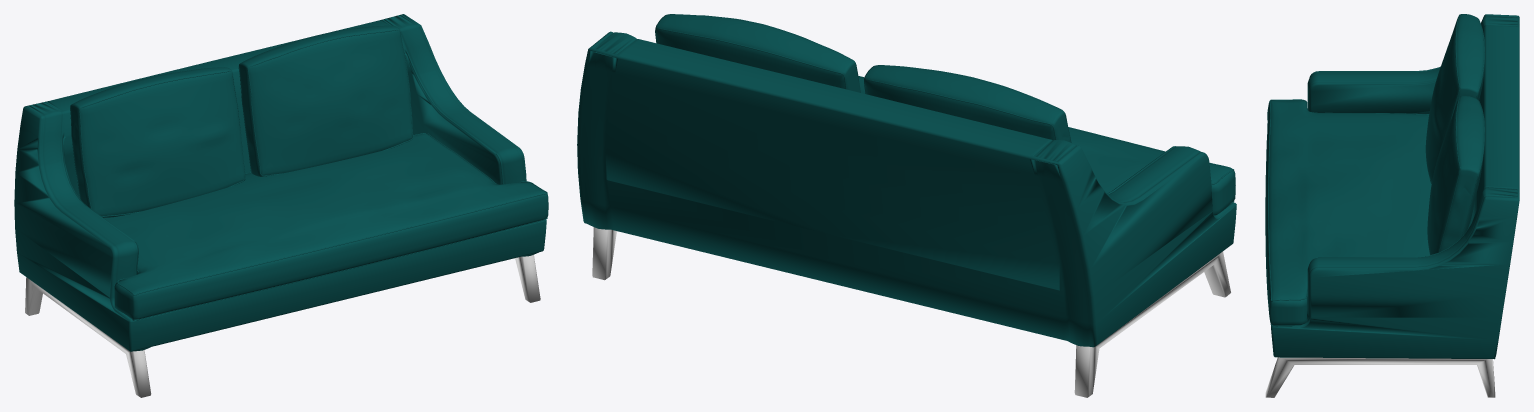
The model's file is sofa.glb.
3 views of the same model, side by side, from view 1: azimuth 30°, elevation 25°; view 2: azimuth 150°, elevation 25°; view 3: azimuth 270°, elevation 25° (orthographic). The views are drawn at different scales.
Visible parts, largest first — view 1: buffer-0-mesh-0_2_2, buffer-0-mesh-0_1_1, buffer-0-mesh-0_0; view 2: buffer-0-mesh-0_1_1, buffer-0-mesh-0_2_2, buffer-0-mesh-0_0; view 3: buffer-0-mesh-0_1_1, buffer-0-mesh-0_2_2, buffer-0-mesh-0_0.
Part boxes in pixels (box(x1,y1,x2,y2)): buffer-0-mesh-0_2_2: box(70, 25, 548, 319); buffer-0-mesh-0_1_1: box(14, 14, 547, 351); buffer-0-mesh-0_0: box(25, 254, 540, 397); buffer-0-mesh-0_1_1: box(577, 14, 1236, 347); buffer-0-mesh-0_2_2: box(655, 14, 1235, 215); buffer-0-mesh-0_0: box(592, 227, 1230, 397); buffer-0-mesh-0_1_1: box(1268, 14, 1519, 359); buffer-0-mesh-0_2_2: box(1265, 14, 1485, 325); buffer-0-mesh-0_0: box(1265, 357, 1495, 397).
Size of the model in its own units: 1.63 by 0.8148 by 0.8617.
